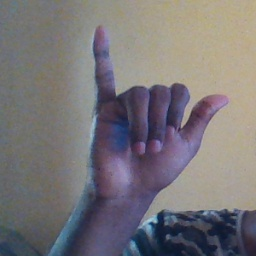J: (83, 21, 232, 194)
